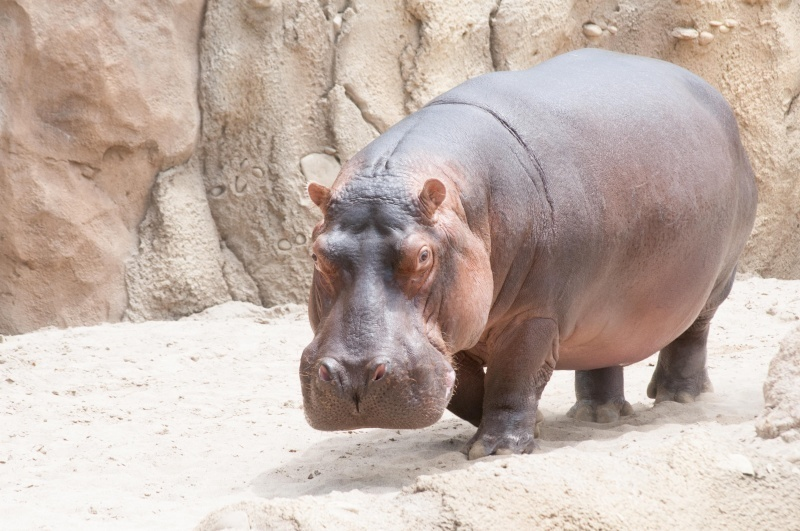hipopotamo: (295, 45, 758, 471)
